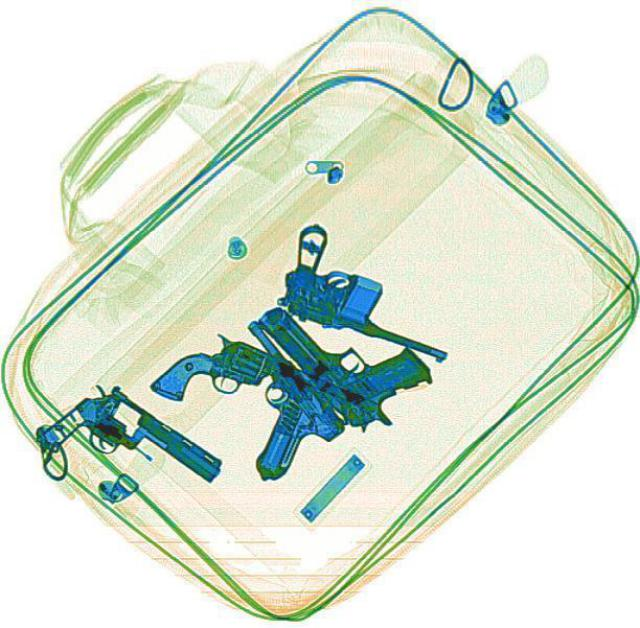Gun: (147, 314, 383, 471), (251, 258, 444, 442), (264, 217, 480, 365), (170, 311, 354, 484), (33, 371, 227, 532)
